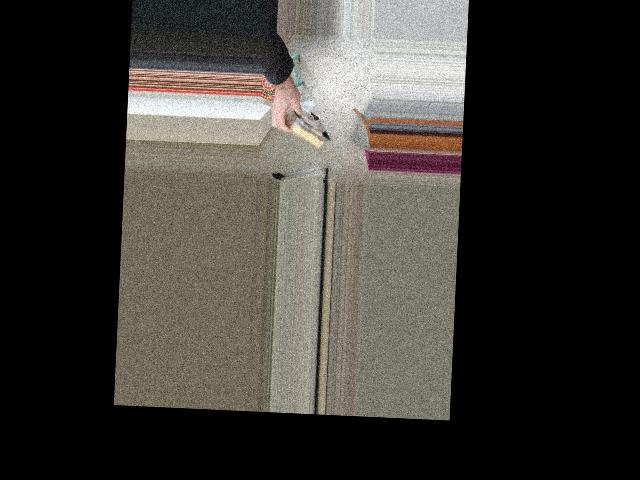cheese: (263, 94, 341, 157)
